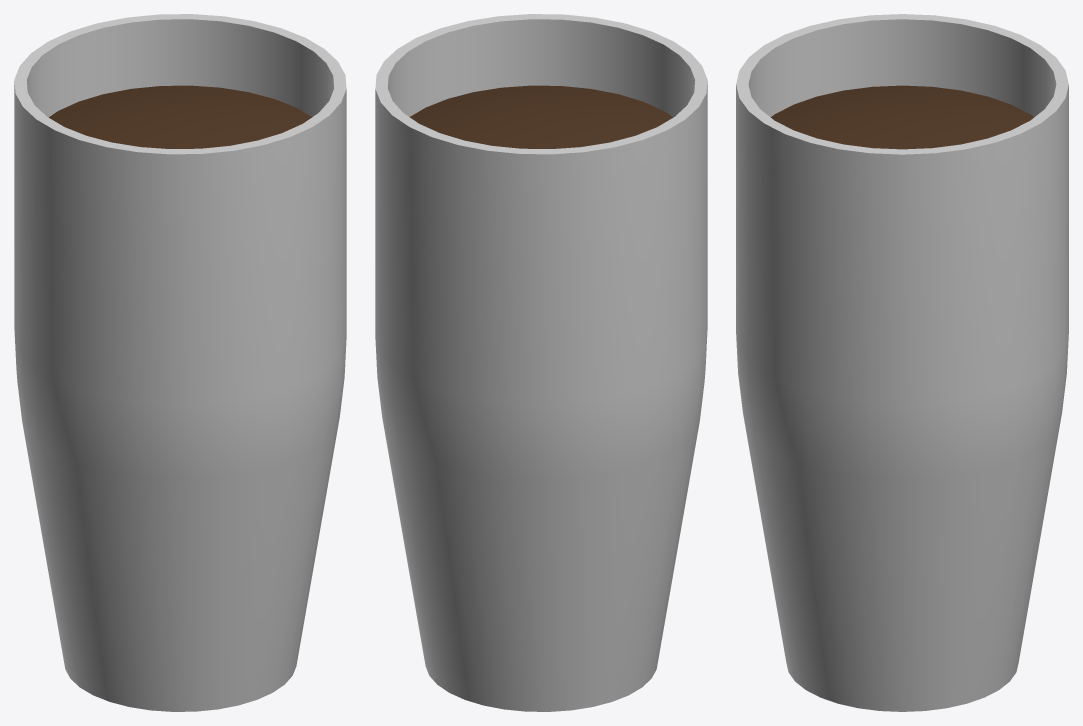
File: PlantPot06.fbx
3 views of the same model, side by side, from view 1: azimuth 30°, elevation 25°; view 2: azimuth 150°, elevation 25°; view 3: azimuth 270°, elevation 25° (orthographic).
Parts seen in each view (by area): view 1: Cylinder.003; view 2: Cylinder.003; view 3: Cylinder.003.
Boxes of the visible parts, box(x1,y1,x2,y2) form: Cylinder.003: box(14, 14, 346, 711); Cylinder.003: box(375, 14, 707, 711); Cylinder.003: box(736, 14, 1068, 711).
Bounding box in the file's own units: 1.04 × 2 × 1.04.
